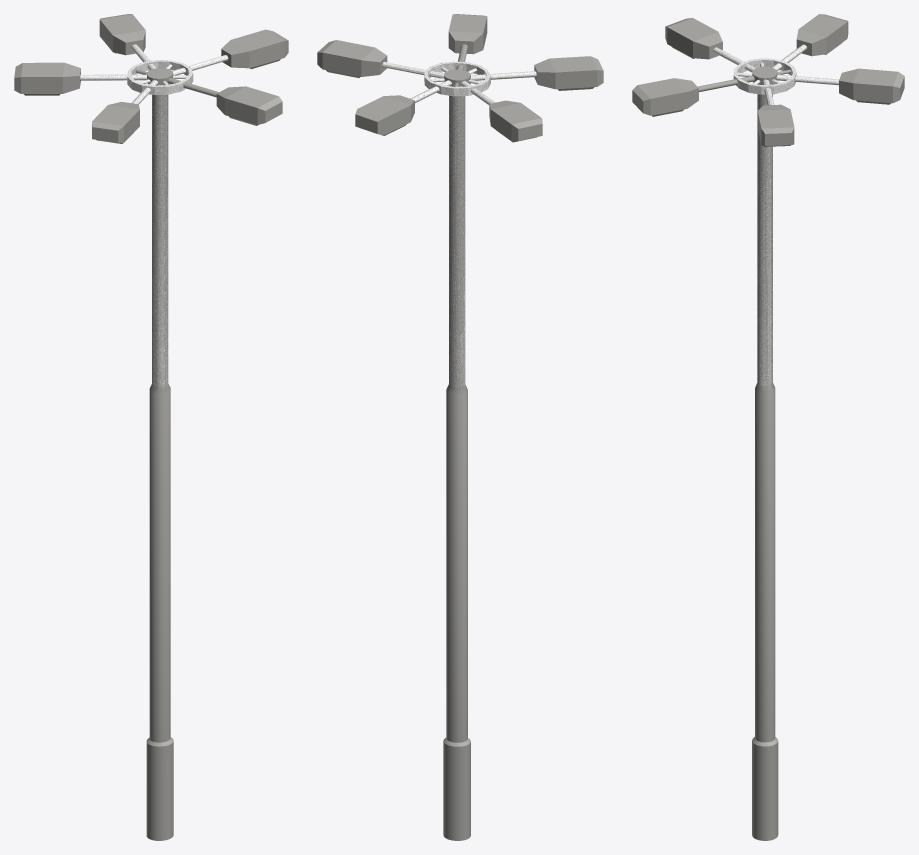
File: farola.dae
3 renders of one model, left to right at view 1: azimuth 30°, elevation 25°; view 2: azimuth 150°, elevation 25°; view 3: azimuth 270°, elevation 25°, orthographic.
Parts seen in each view (by area): view 1: group_0 (×7); view 2: group_0 (×7); view 3: group_0 (×7).
Part boxes in pixels (x1,y1,x2,y2): group_0 (×7): [14, 14, 288, 840]; group_0 (×7): [317, 14, 603, 840]; group_0 (×7): [632, 14, 904, 840].
Size of the model in its own units: 258 by 249 by 773.
3 materials, 2 textured.
